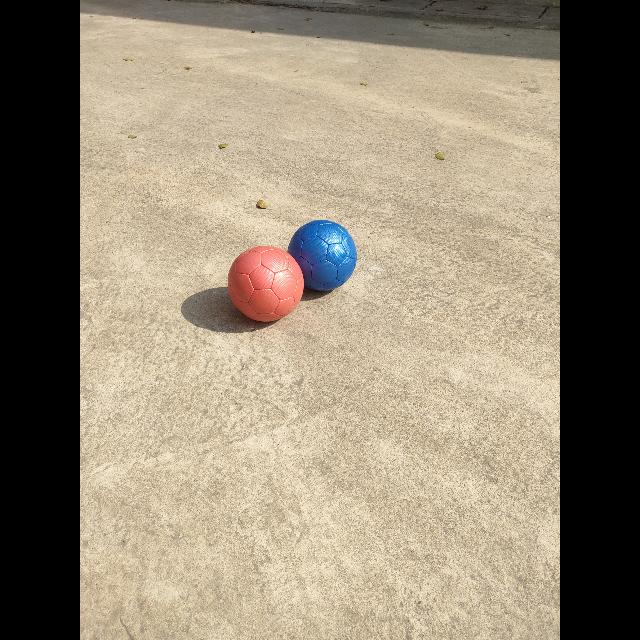B: (287, 220, 357, 291)
R: (228, 246, 304, 322)
